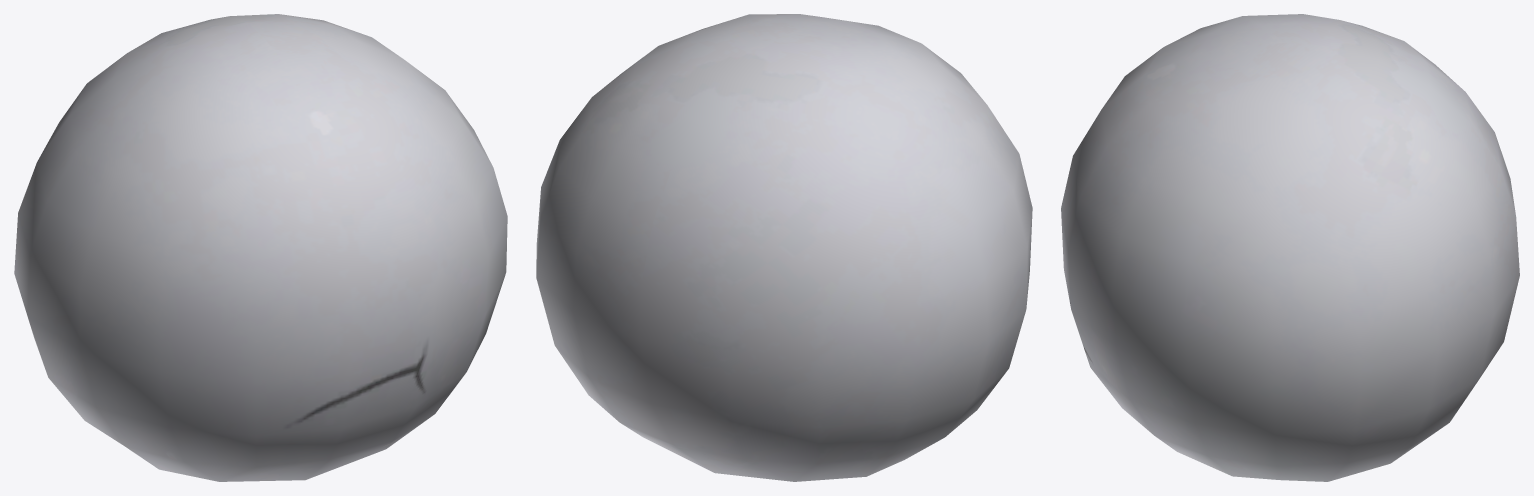
The model's file is Homeworld_Exterior_Common_Prop_Thing_SnowmanHead_04_Vo.fbx.
The picture shows the model from 3 angles, left to right: view 1: azimuth 30°, elevation 25°; view 2: azimuth 150°, elevation 25°; view 3: azimuth 270°, elevation 25°; orthographic projection. The views are drawn at different scales.
Parts seen in each view (by area): view 1: Homeworld_Exterior_Common_Prop_Thing_SnowmanHead_04_Vo; view 2: Homeworld_Exterior_Common_Prop_Thing_SnowmanHead_04_Vo; view 3: Homeworld_Exterior_Common_Prop_Thing_SnowmanHead_04_Vo.
Part boxes in pixels (bbox=[...]): Homeworld_Exterior_Common_Prop_Thing_SnowmanHead_04_Vo: bbox=[14, 14, 507, 481]; Homeworld_Exterior_Common_Prop_Thing_SnowmanHead_04_Vo: bbox=[536, 14, 1032, 481]; Homeworld_Exterior_Common_Prop_Thing_SnowmanHead_04_Vo: bbox=[1061, 14, 1519, 481].
Size of the model in its own units: 0.6919 by 0.6283 by 0.6386.
